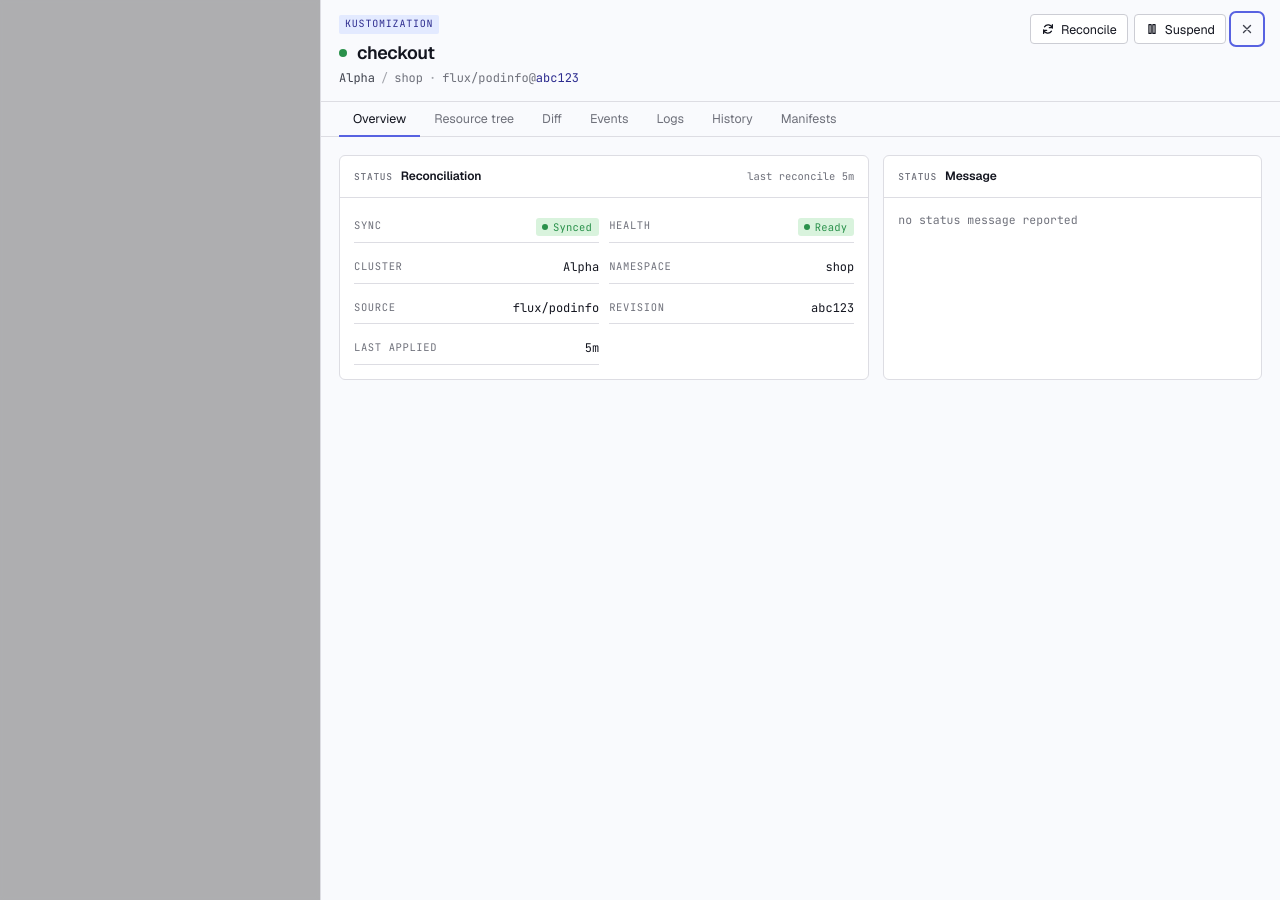
Test case: AppDetailDrawer › shows the segmented mode toggle on the Diff tab
The width and height of the screenshot is (1280, 900).
Note: Click the Diff tab.
Click the tab "Diff".
click(552, 120)  # box x1=528 y1=102 x2=576 y2=137
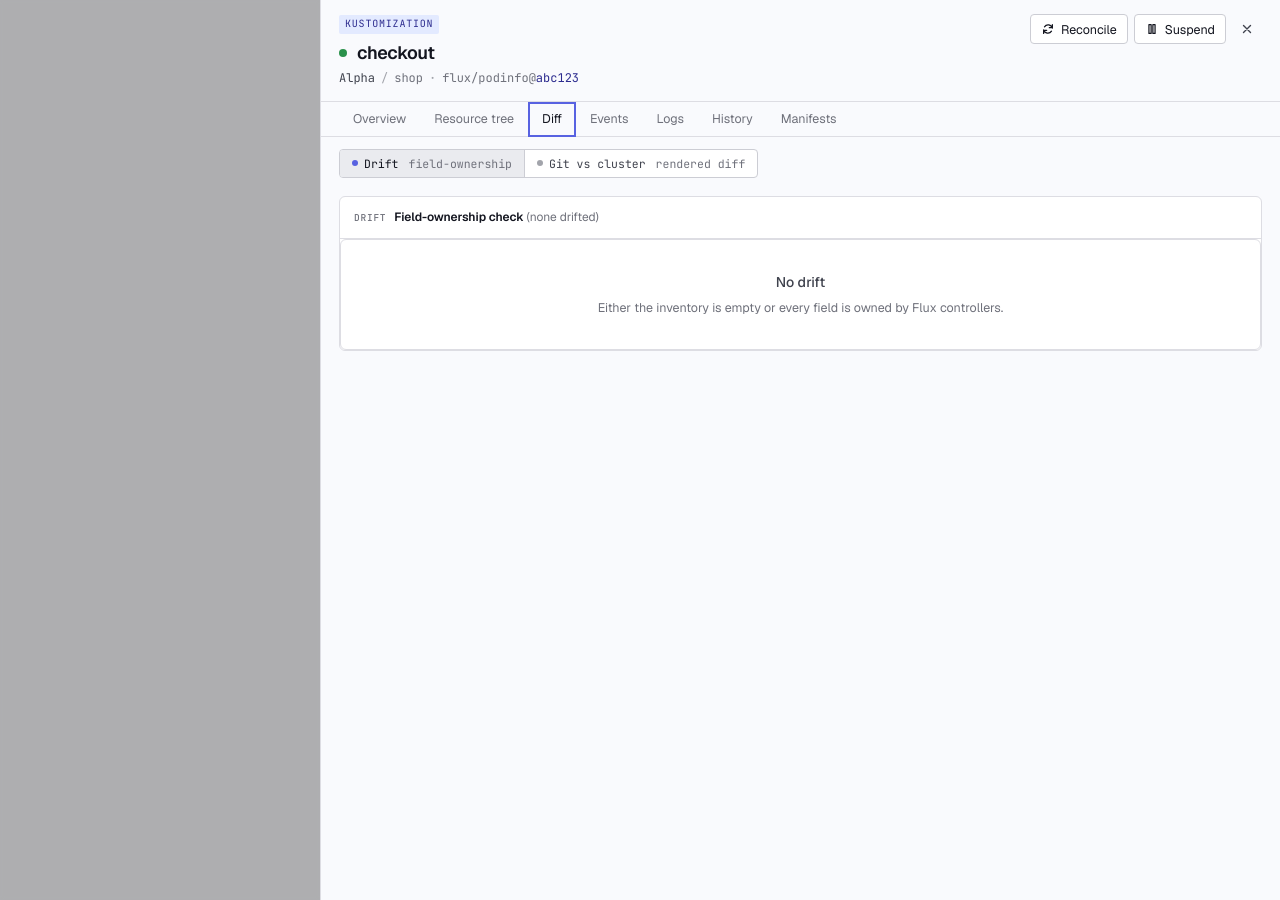
Expected: the tab "Drift field-ownership" is shown, x1=340 y1=150 x2=524 y2=177
Expected: the tab "Git vs cluster rendered diff" is shown, x1=524 y1=150 x2=757 y2=177
